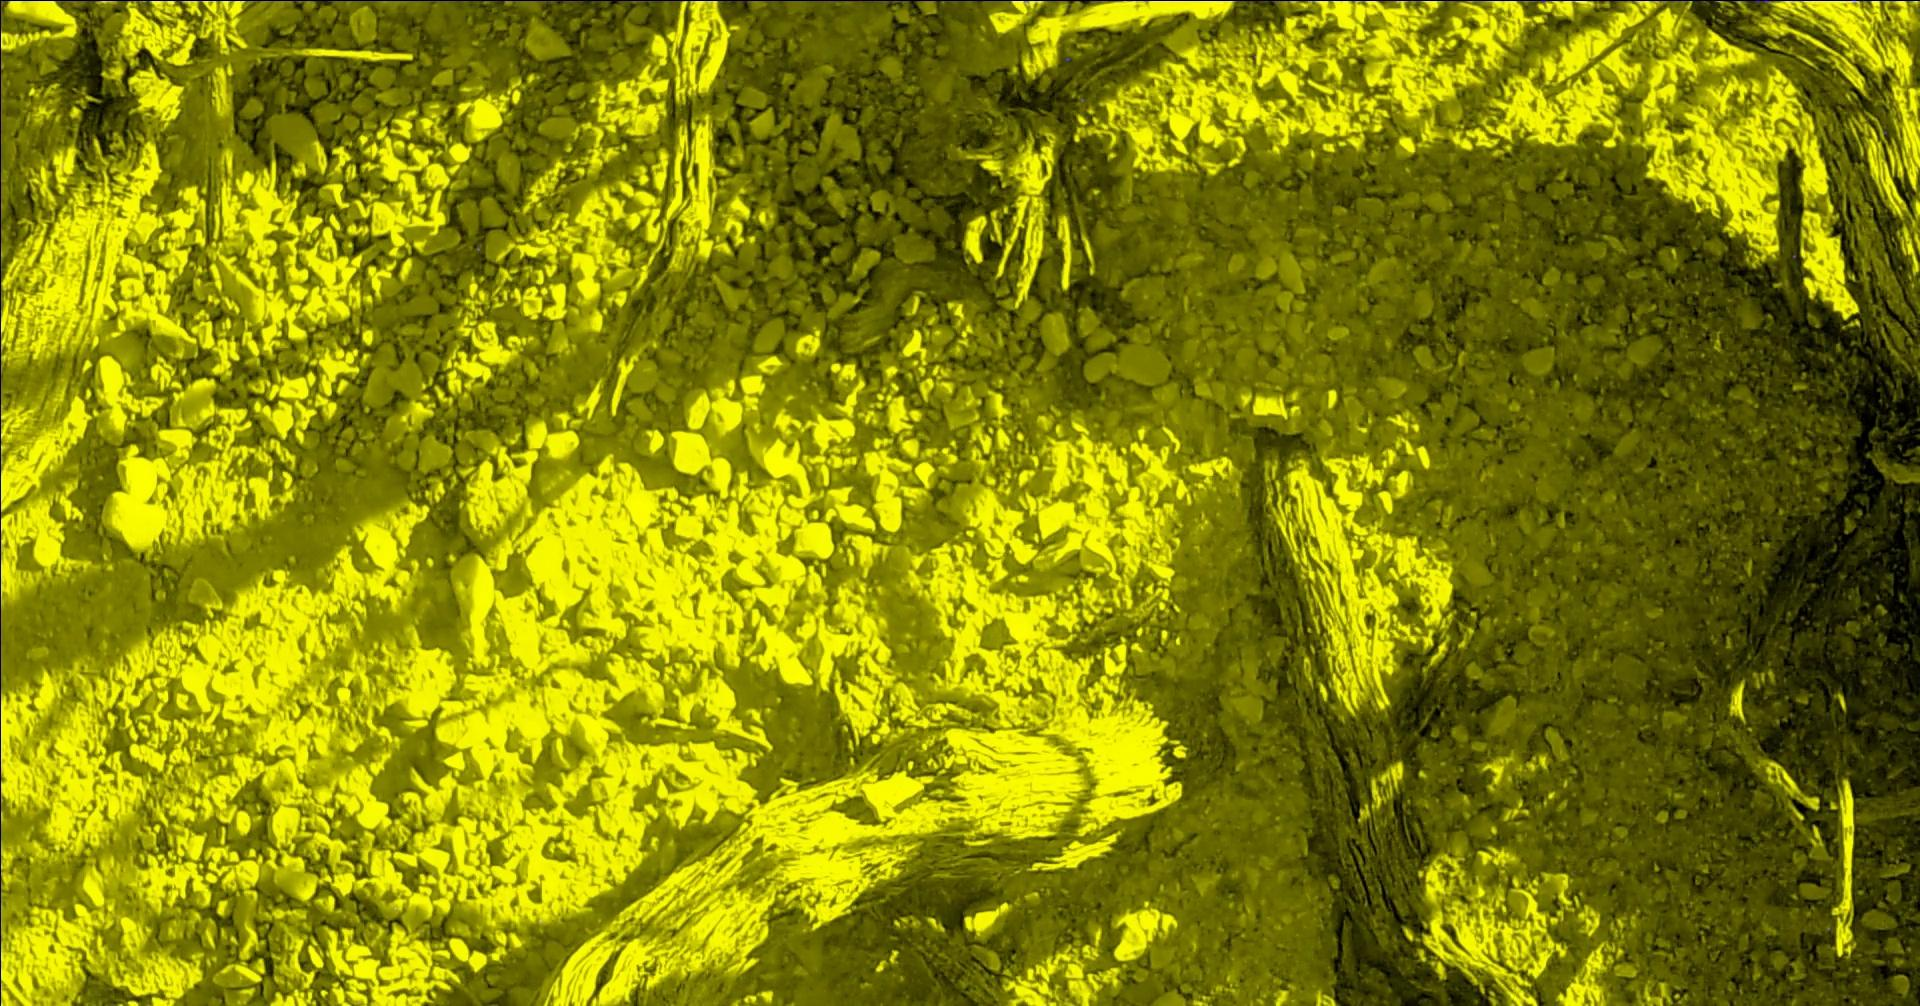ant: (763, 0, 910, 3), (422, 0, 505, 1), (936, 0, 1011, 1), (620, 0, 682, 1)
